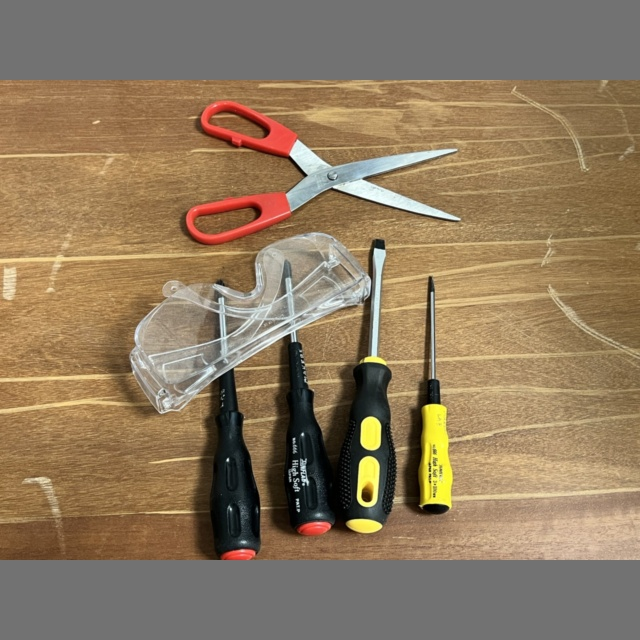scissor: (186, 101, 460, 245)
screwdriver: (336, 239, 396, 534), (282, 262, 336, 536), (210, 286, 260, 560), (418, 276, 452, 514)
